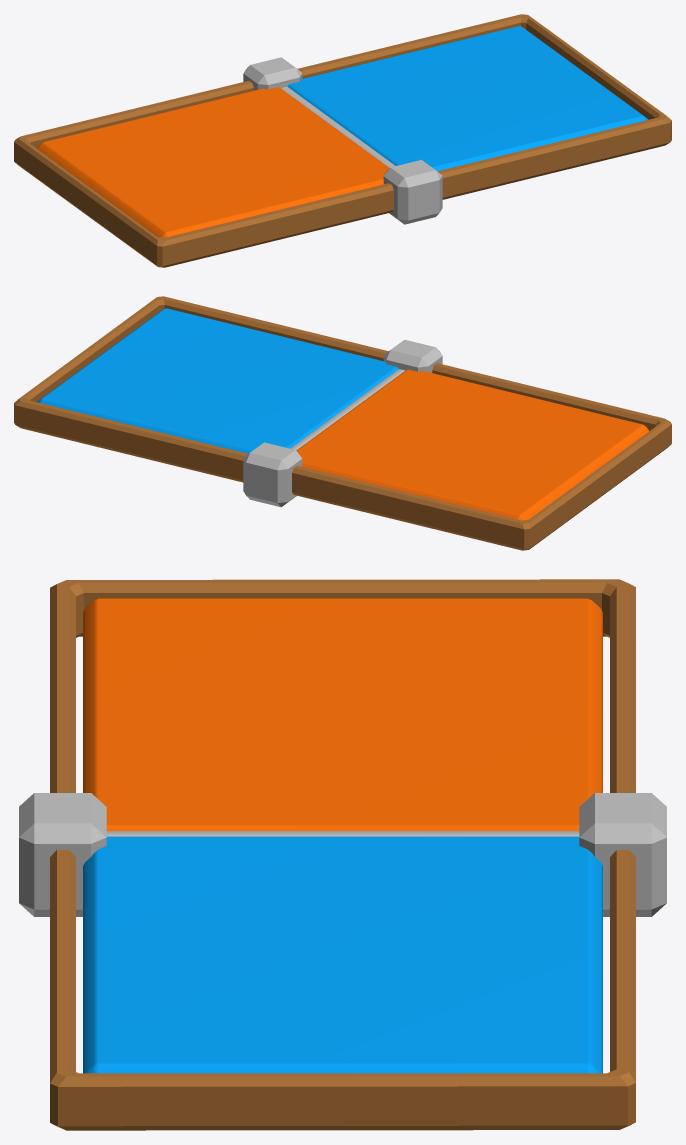
File: FlipPad.fbx
The picture shows the model from 3 angles, top to bottom: view 1: azimuth 30°, elevation 25°; view 2: azimuth 150°, elevation 25°; view 3: azimuth 270°, elevation 25°; orthographic projection. The views are drawn at different scales.
Visible parts, largest first — view 1: pPipe4, WorkBlock9, WorkBlock10; view 2: pPipe4, WorkBlock9, WorkBlock10; view 3: WorkBlock10, WorkBlock9, pPipe4.
Part boxes in pixels (x1,y1,x2,y2): pPipe4: (14, 14, 671, 267); WorkBlock9: (37, 87, 389, 237); WorkBlock10: (287, 26, 648, 171); pPipe4: (14, 296, 671, 550); WorkBlock9: (296, 369, 648, 520); WorkBlock10: (37, 308, 398, 453); WorkBlock10: (83, 836, 602, 1073); WorkBlock9: (83, 598, 602, 830); pPipe4: (19, 579, 666, 1130).
Bounding box in the file's own units: 1.73 × 0.15 × 0.9404.
